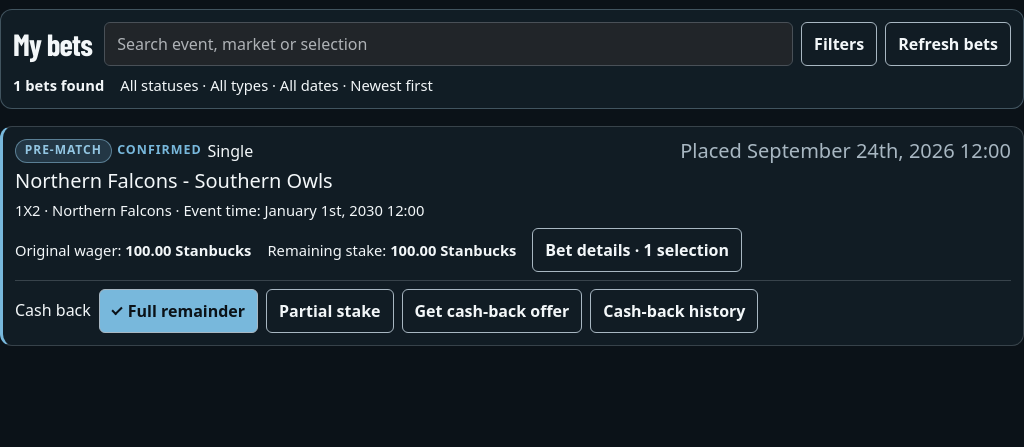
strictly rejects partial -1 without changing the amount or switching to full
This screenshot has width=1024, height=447.
Check: the heading "Northern Falcons - Southern Owls" is shown, box top-left (15, 167), bottom-right (333, 194)
Click the button "Partial stake".
click(330, 311)  # box top-left (266, 289), bottom-right (394, 333)
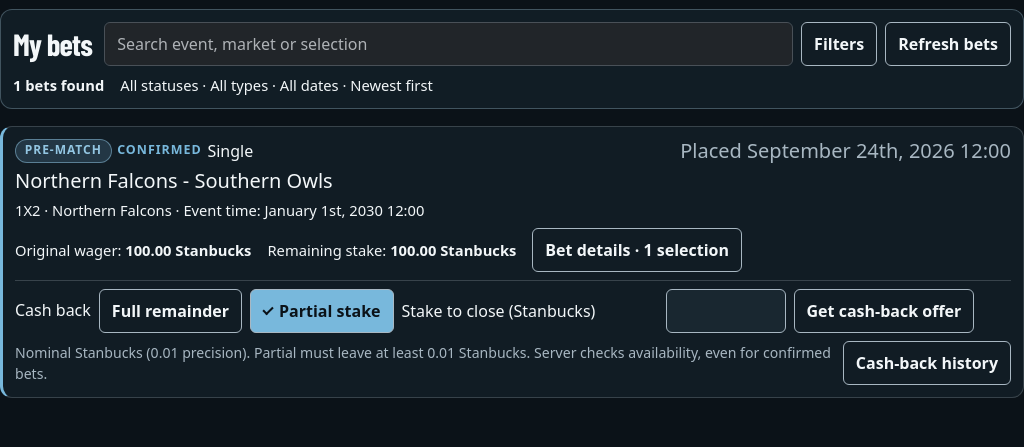
Type "-1" into the number field labelled "Stake to close (Stanbucks)".
click(726, 311); type("-1")  # box top-left (666, 289), bottom-right (786, 333)
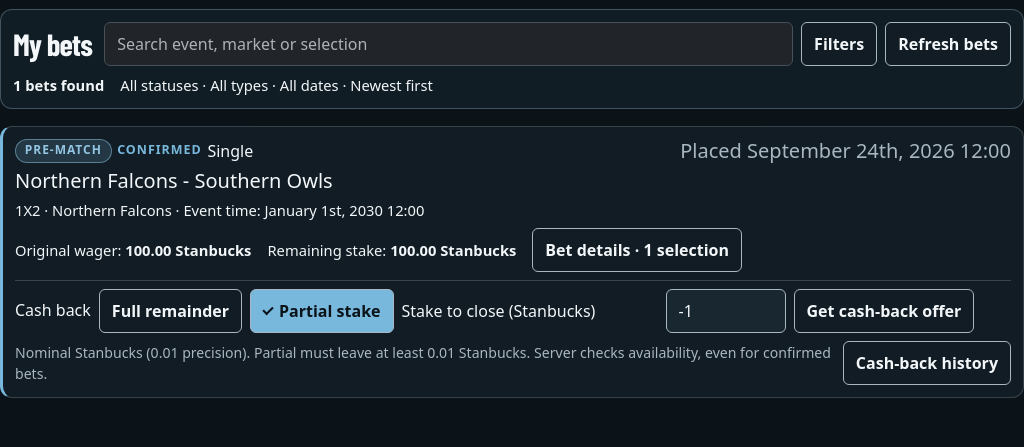
Click the button "Get cash-back offer".
click(884, 311)  # box top-left (794, 289), bottom-right (974, 333)
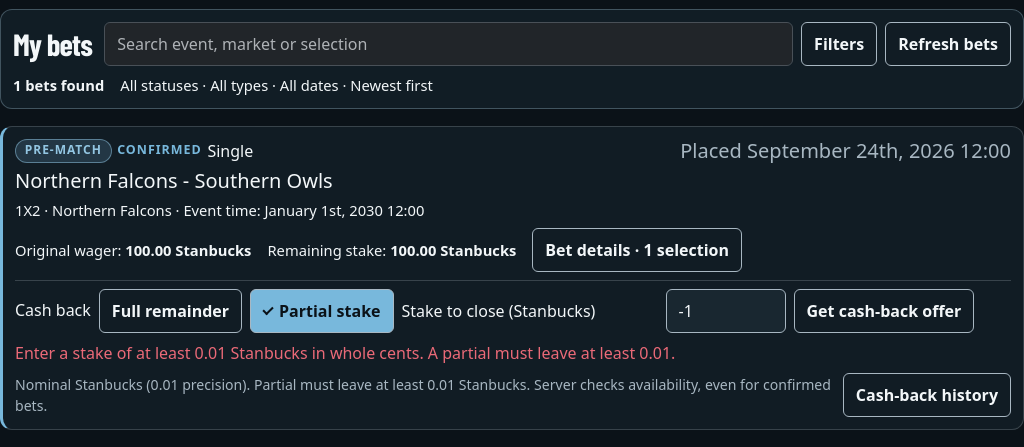
Check: the 2nd message shows "A partial must leave at least 0.01", box top-left (15, 342), bottom-right (675, 364)
